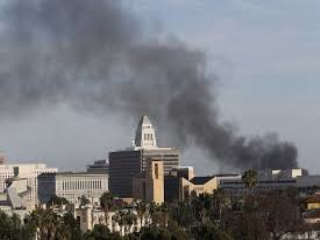smoke: (126, 46, 302, 170)
